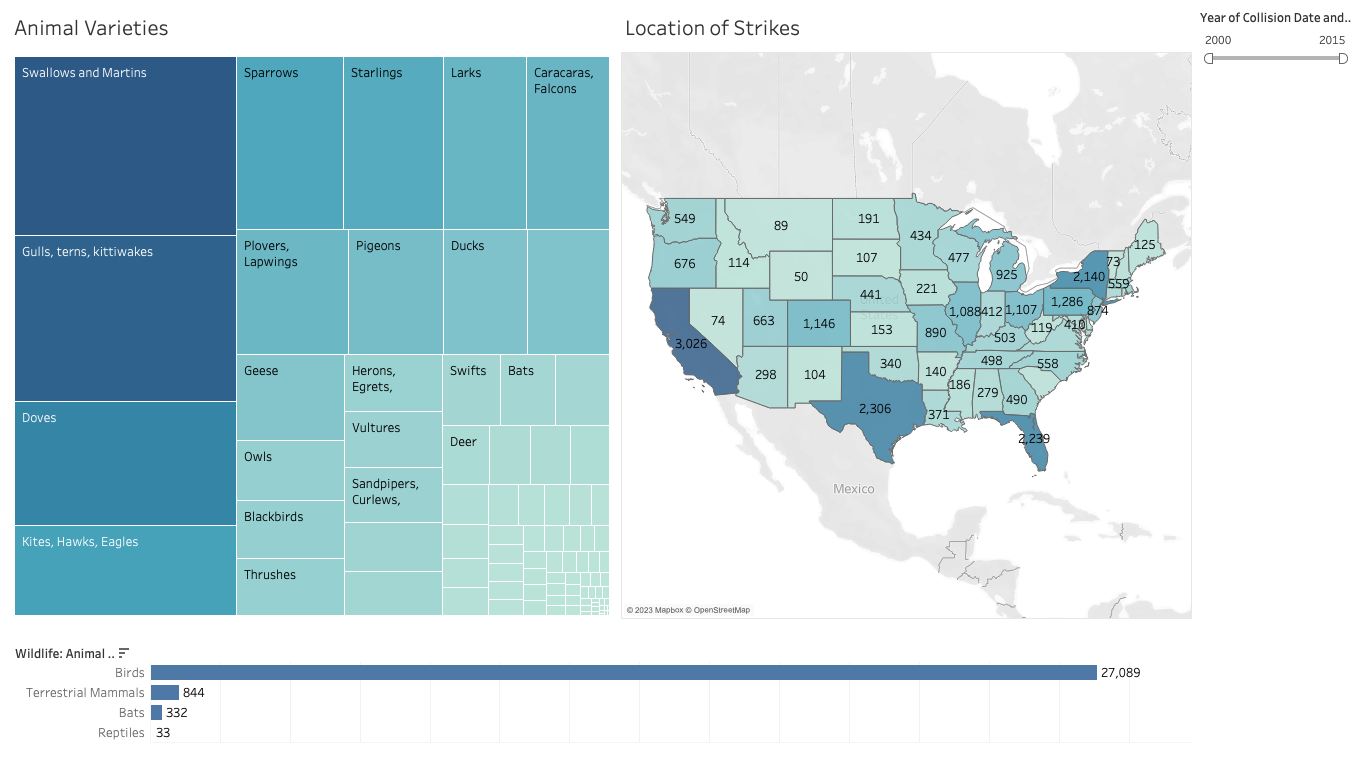

Layout of this report page (visuals, bound fields, positions):
{"tool":"tableau","page":{"name":"Animal Strikes","canvas":[1366,768],"ordinal":0},"visuals":[{"type":"worksheet","title":"Animal Varieties","mark":"Automatic","box":[8,8,610.9,618]},{"type":"worksheet","title":"Location of Strikes","mark":"Automatic","box":[618.9,8,579.1,618]},{"type":"filter","title":"Location of Strikes","param":"[federated.04nr8pr1fgrfe7118lz7j1k2yfn2].[tyr:Collision Date and Time:qk]","box":[1198,8,160,69]},{"type":"worksheet","title":"Animal Category","mark":"Automatic","rows":[" Animal Category"],"cols":["Number of Strikes"],"box":[8,626,1190,134]}]}

Visuals, with their boxes in screenshot pixels (x1, y1, x2, y2), scaled from the page's 1366x768 canvas onto the 1363x761 screenshot:
"Animal Varieties" worksheet: select_region(8, 8, 618, 620)
"Location of Strikes" worksheet: select_region(618, 8, 1195, 620)
"Location of Strikes" filter: select_region(1195, 8, 1355, 76)
"Animal Category" worksheet: select_region(8, 620, 1195, 753)
